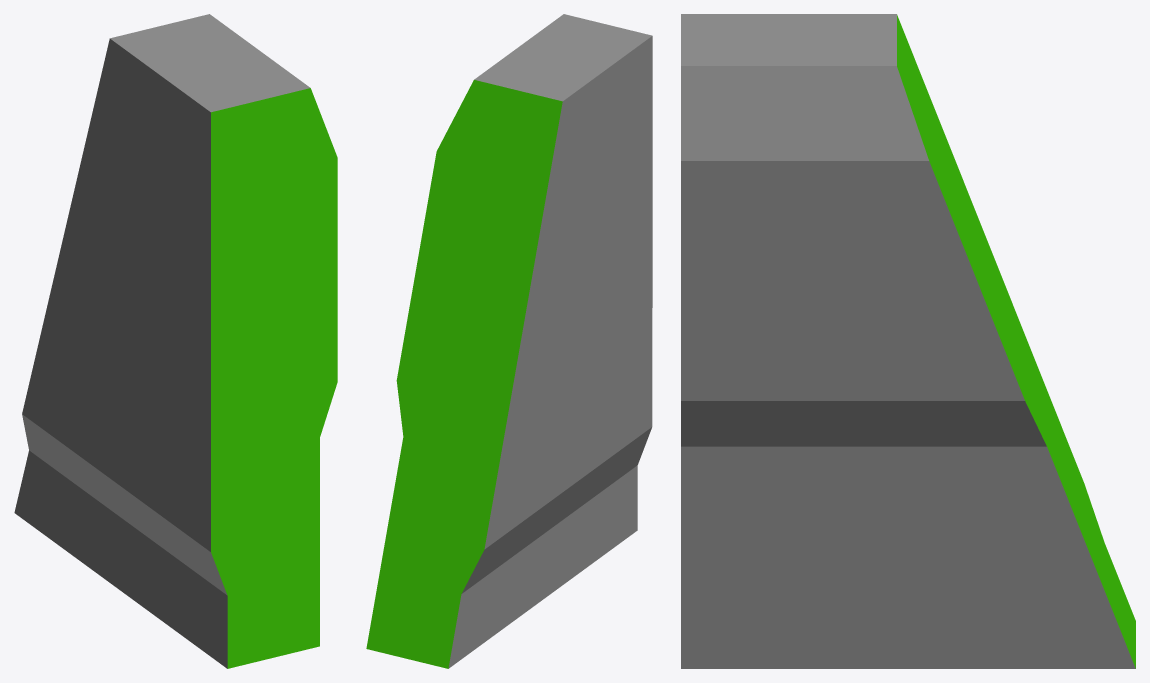
The model's file is SMB_groundM_C.fbx.
3 renders of one model, left to right at view 1: azimuth 30°, elevation 25°; view 2: azimuth 150°, elevation 25°; view 3: azimuth 270°, elevation 25°, orthographic. The views are drawn at different scales.
Visible parts, largest first — view 1: SMB_groundM_C; view 2: SMB_groundM_C; view 3: SMB_groundM_C.
Boxes of the visible parts, x1,y1,x2,y2 form: SMB_groundM_C: (14,14,337,668); SMB_groundM_C: (366,14,652,668); SMB_groundM_C: (681,14,1135,668).
Bounding box in the file's own units: 1174 × 4964 × 3420.
